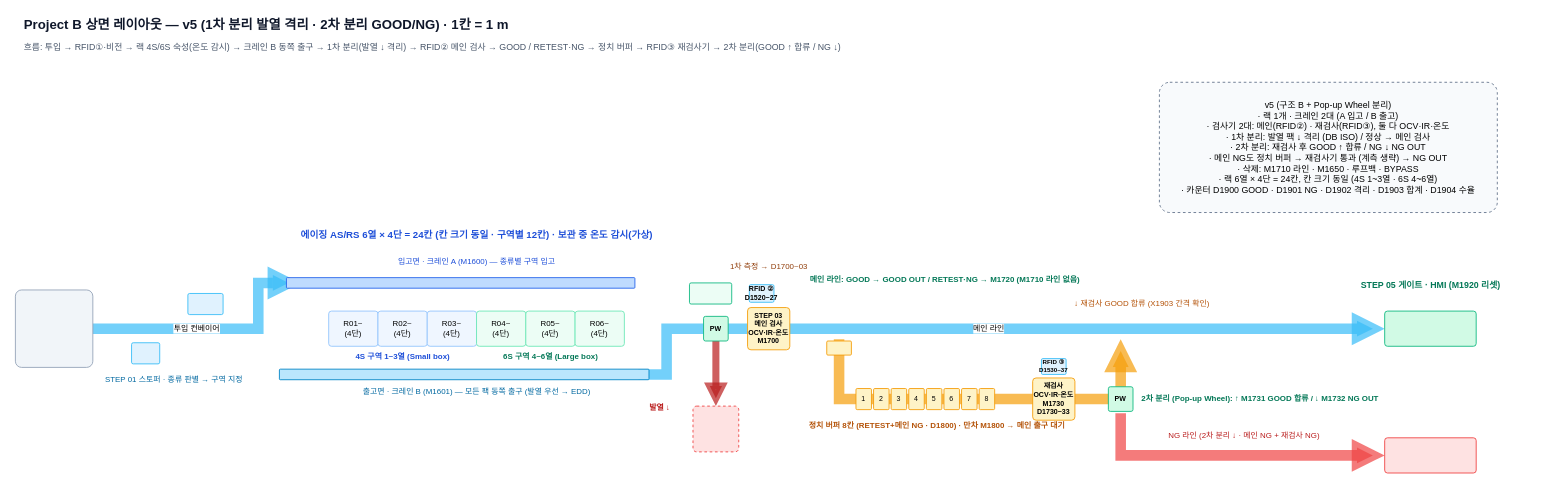
The diagram is 1551 pixels wide and 488 high, and some of its shapes have lost their labels. The centre of each missing label's shape, as x and y in pixels:
"1차 분리 M1660 / M1661" belongs at point 710,293.
"GOOD OUT X1900 → D1900" belongs at point 1430,328.
"M1690 발열 격리 X1902/D1902 DB ISO" belongs at point 715,428.
"M1720" belongs at point 838,347.
"NG OUT X1901 → D1901" belongs at point 1430,455.
"Project C 인계 4S = 작은 박스 6S = 큰 박스" belongs at point 54,328.
"RFID ① D1510~17" belongs at point 205,304.
"비전 (D1519)" belongs at point 145,353.
